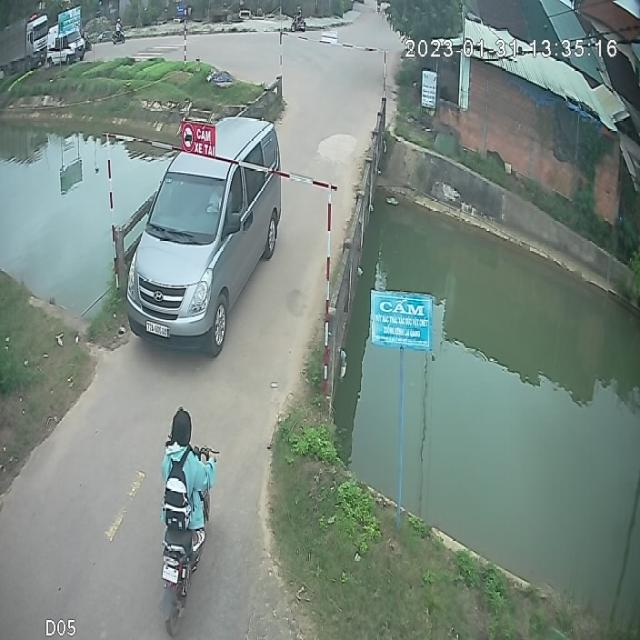no_helmet: (164, 398, 202, 457)
